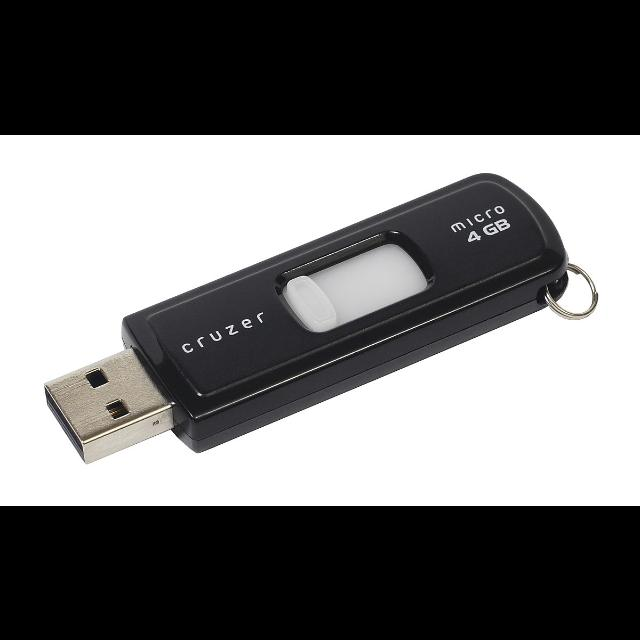USB-Flash-Drive: (43, 172, 591, 465)
